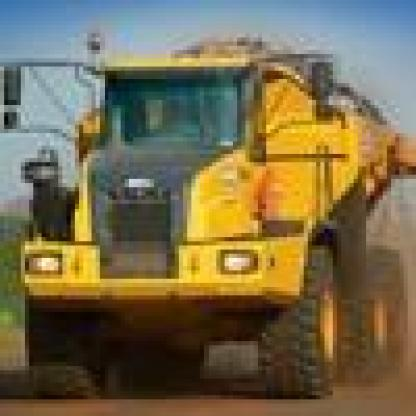dump_truck: (21, 41, 412, 387)
